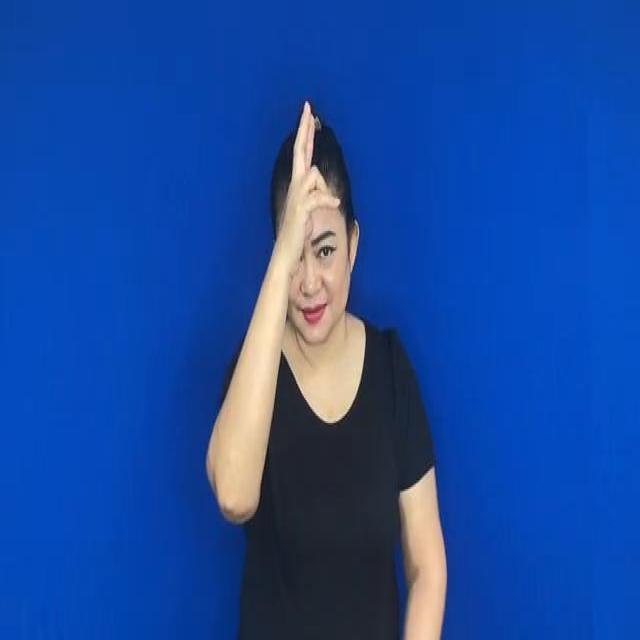chicken: (279, 93, 341, 250)
